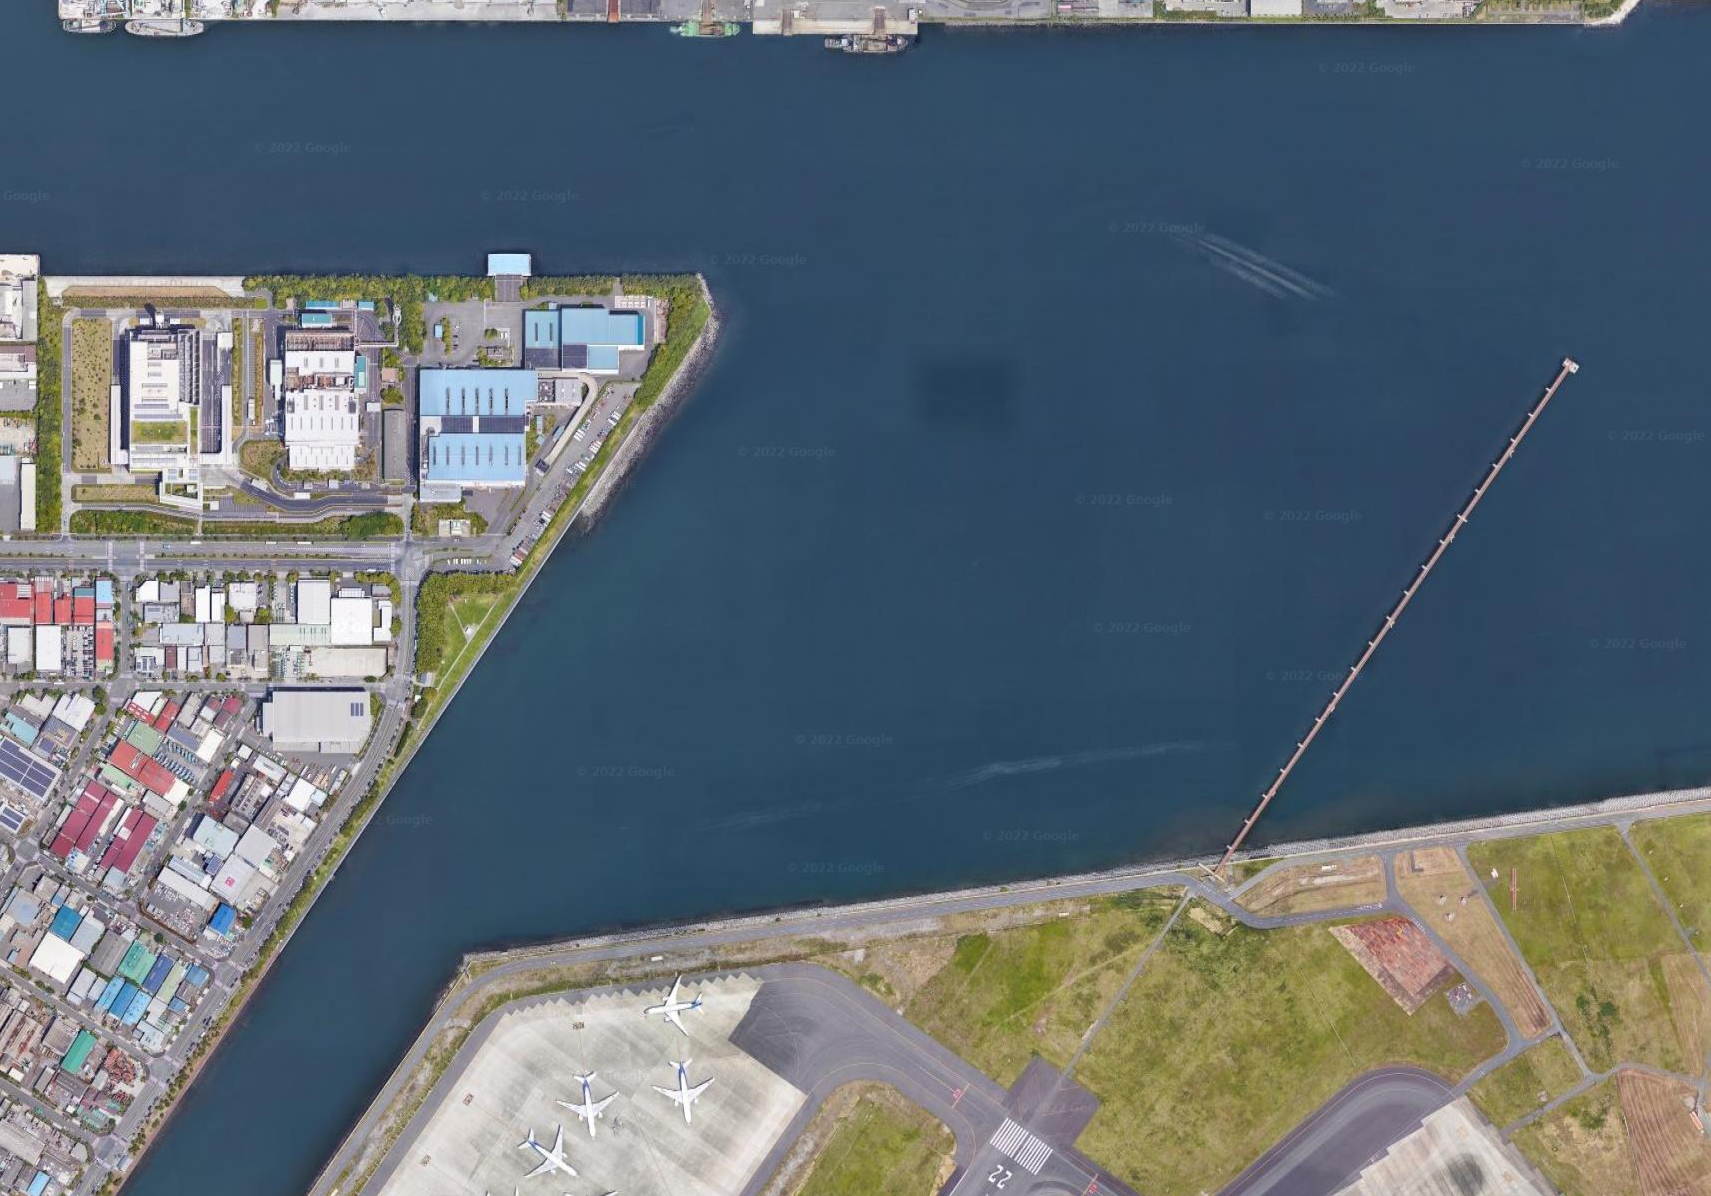plane: (554, 1071, 621, 1140), (649, 1059, 715, 1126), (644, 975, 705, 1037), (519, 1126, 582, 1179)
ship: (824, 32, 909, 55), (124, 19, 205, 39), (673, 21, 742, 39), (59, 18, 117, 35)
